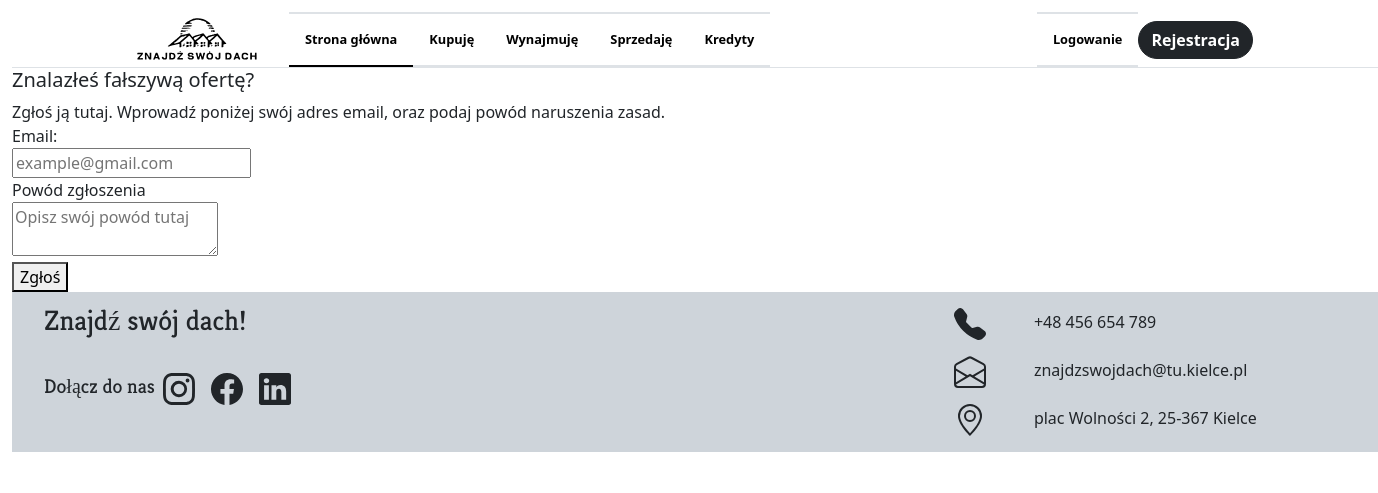
Test: ReportOfferView › displays email error message for invalid email
Type "invalid-email.com" into the field with placeholder "example@gmail.com" at (132, 163), box left=12, top=148, right=251, bottom=178
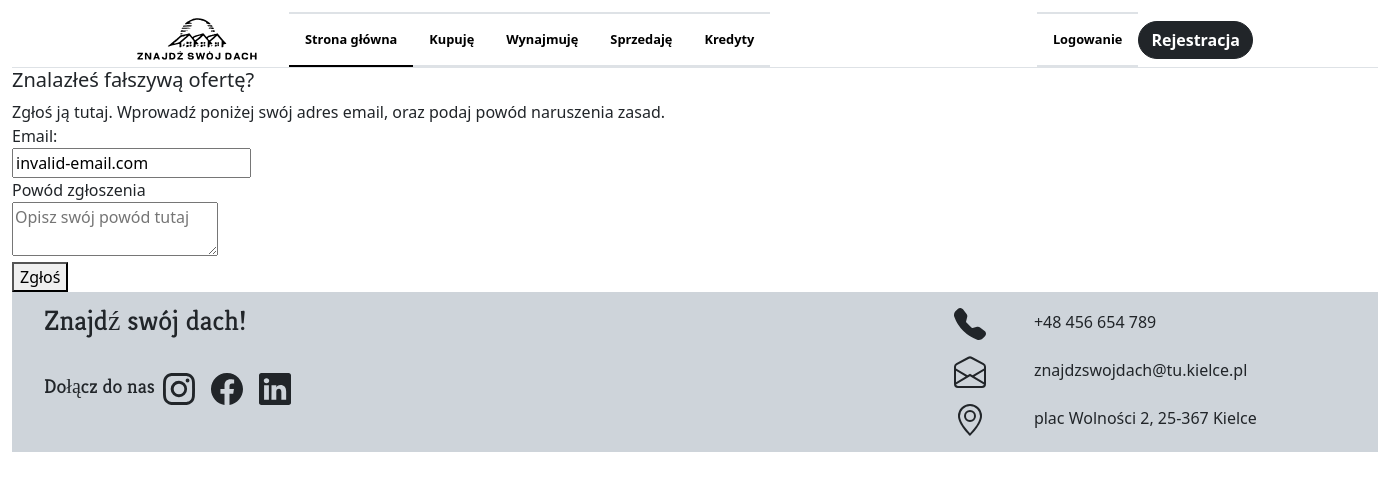
Click the button with test id "zglos-button" at (40, 277), box left=12, top=262, right=68, bottom=292
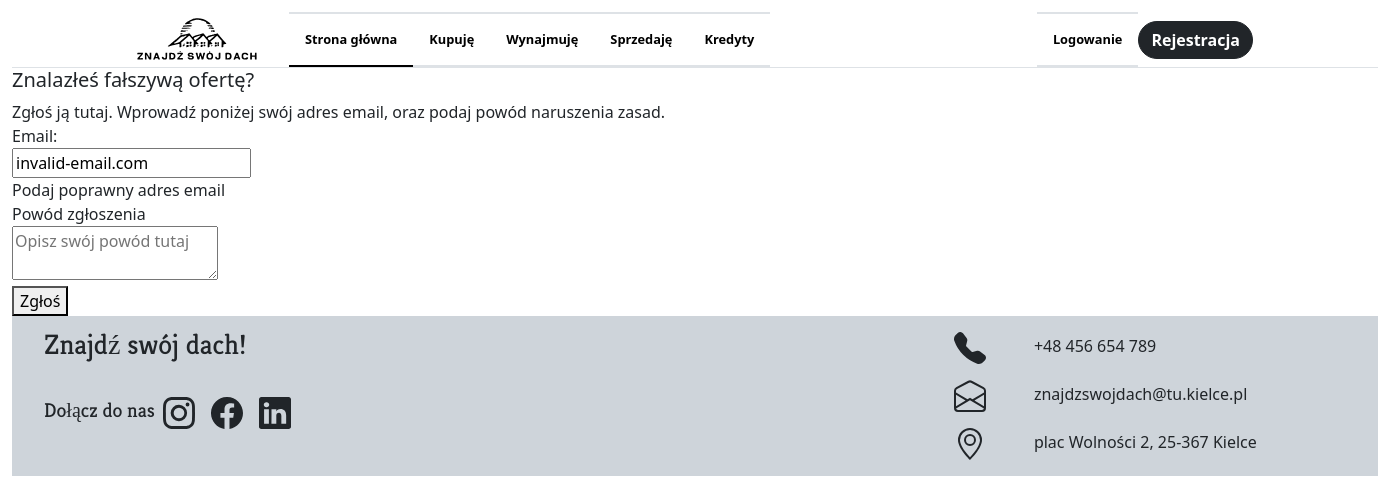
Expected: the text "Podaj poprawny adres email" is shown, left=12, top=179, right=225, bottom=201
